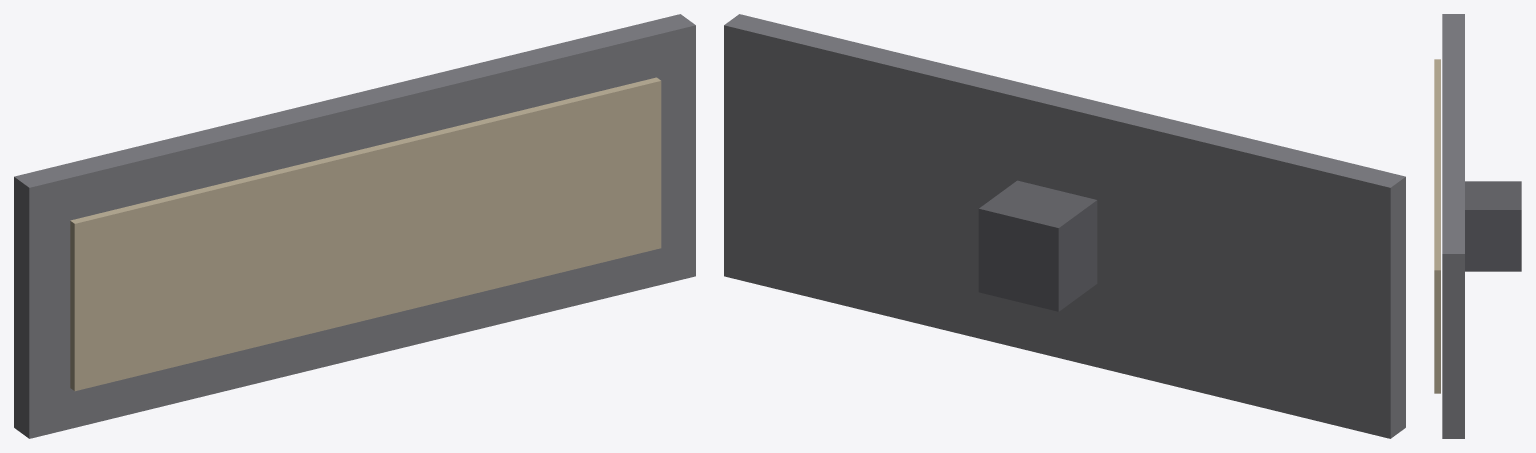
The model's file is SM_P2_Classroom_Sign_A.obj.
3 renders of one model, left to right at view 1: azimuth 30°, elevation 25°; view 2: azimuth 150°, elevation 25°; view 3: azimuth 270°, elevation 25°, orthographic. The views are drawn at different scales.
Visible parts, largest first — view 1: face, plate; view 2: plate, mount; view 3: plate, mount, face.
Boxes of the visible parts, x1,y1,x2,y2 form: face: [70, 77, 661, 391]; plate: [14, 14, 695, 438]; plate: [724, 14, 1405, 438]; mount: [978, 180, 1097, 311]; plate: [1442, 14, 1464, 438]; mount: [1465, 181, 1521, 271]; face: [1434, 59, 1440, 393].
Bounding box in the file's own units: 0.5 × 0.18 × 0.077.
